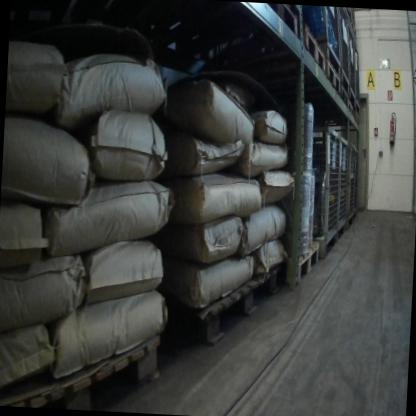pallet: (2, 318, 168, 413), (166, 266, 254, 366), (163, 0, 302, 42), (273, 20, 329, 79), (247, 250, 286, 320), (280, 238, 321, 291), (323, 58, 343, 99), (340, 8, 358, 39), (338, 76, 350, 112), (343, 109, 360, 125), (346, 97, 353, 116)
stillage: (287, 113, 343, 259), (298, 5, 344, 76), (332, 130, 350, 237), (335, 7, 355, 90), (342, 17, 359, 106), (342, 140, 356, 223), (351, 32, 364, 112), (351, 145, 362, 221)
